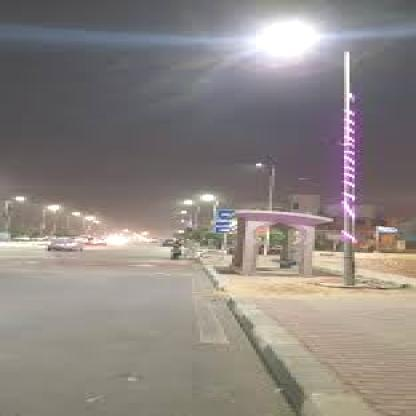light_pole: (262, 24, 360, 287), (3, 197, 25, 245), (37, 206, 59, 242)
